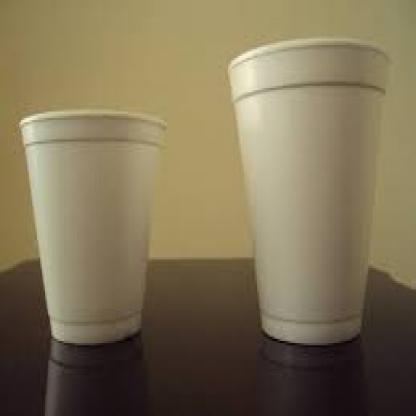paper: (225, 37, 390, 343), (16, 109, 165, 343)
